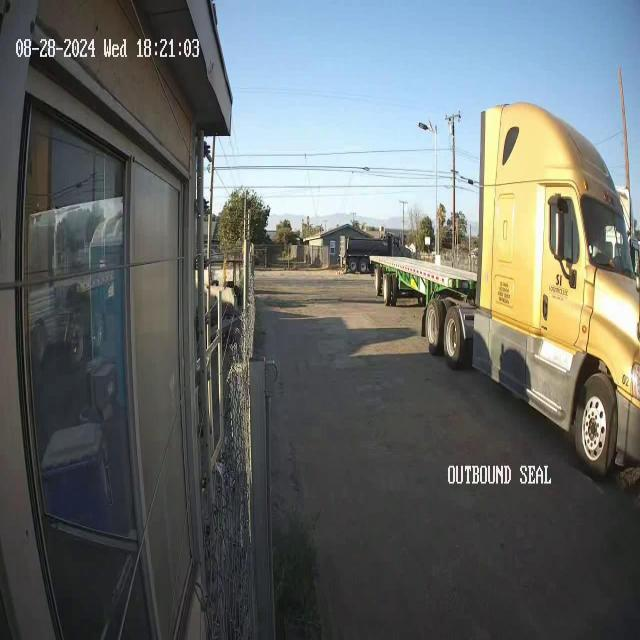BOBTAIL: (369, 97, 639, 480)
